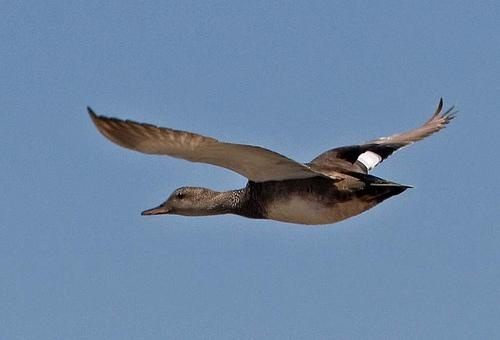bird: (83, 93, 456, 235)
